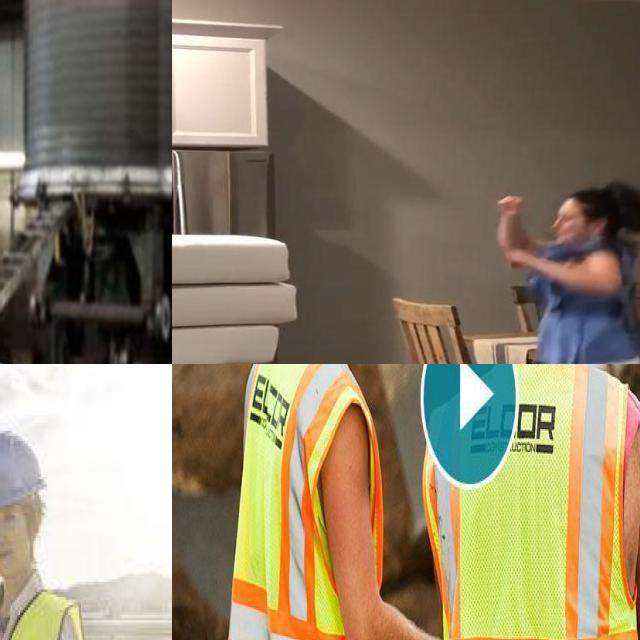No_Ear-Protection: (593, 204, 620, 248)
face_nomask: (0, 500, 28, 574), (547, 215, 582, 245)
hand_noglove: (488, 187, 535, 225)
head_helmet: (0, 430, 50, 502)
person: (422, 364, 640, 640), (225, 364, 417, 640), (417, 180, 640, 364), (0, 433, 95, 640)
vest: (439, 364, 640, 640), (240, 364, 378, 640)
